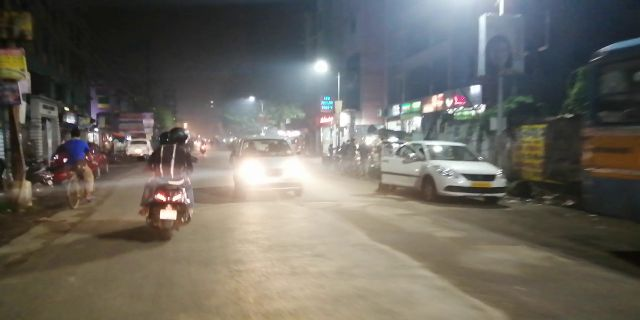Car: (391, 135, 512, 211), (232, 134, 304, 203)
Motorbike: (145, 125, 195, 238)
